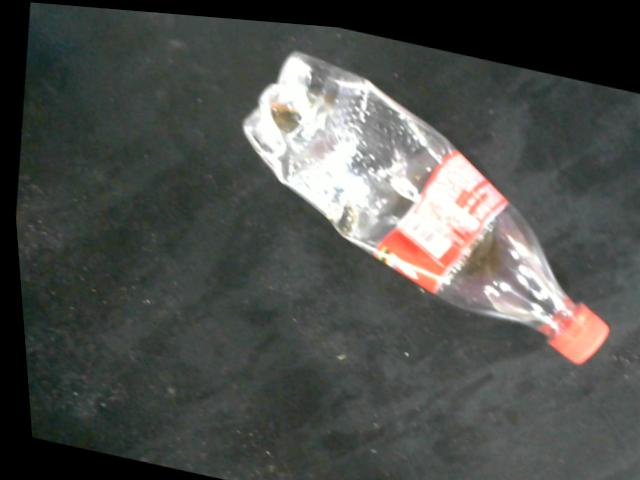bottle: (239, 45, 608, 358)
